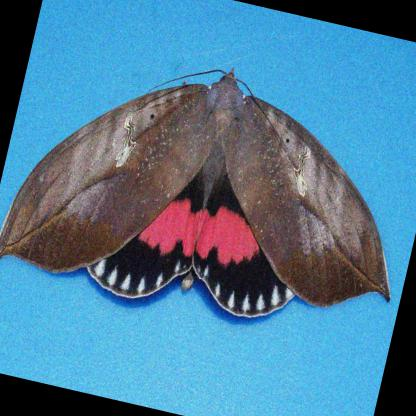fruit sucking moth: (0, 69, 389, 319)
